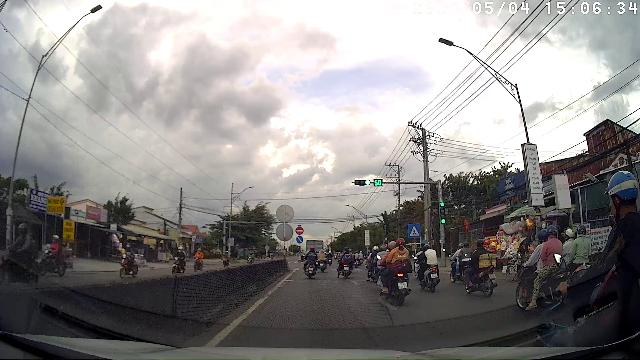102-cam-di-nguoc-chieu: (295, 226, 304, 235)
302a-huong-phai-di-vong-chuong-ngai-vat-1: (295, 235, 304, 244)
423a-duong-nguoi-di-bo-sang-ngang-1: (408, 223, 421, 237)
